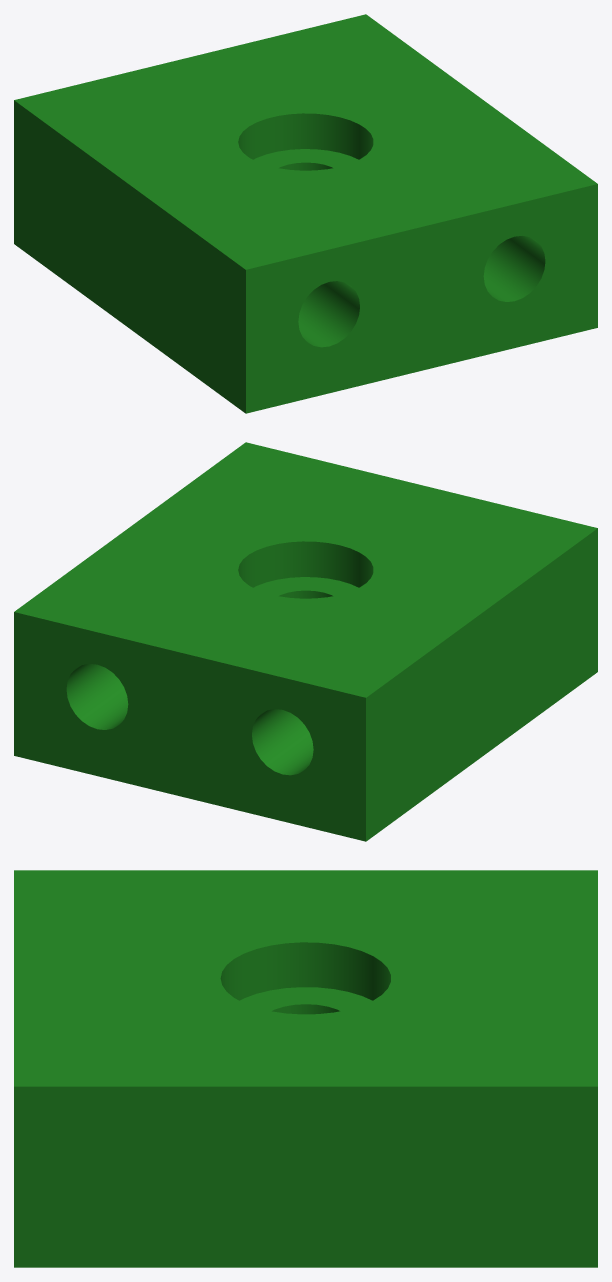
The picture shows the model from 3 angles, top to bottom: view 1: azimuth 30°, elevation 25°; view 2: azimuth 150°, elevation 25°; view 3: azimuth 270°, elevation 25°; orthographic projection. The views are drawn at different scales.
Visible parts, largest first — view 1: Solid1; view 2: Solid1; view 3: Solid1.
Part boxes in pixels (box(x1,y1,x2,y2)): Solid1: box(14, 14, 597, 413); Solid1: box(14, 442, 597, 841); Solid1: box(14, 870, 597, 1267).
Size of the model in its own units: 0.114 by 0.0445 by 0.13.
